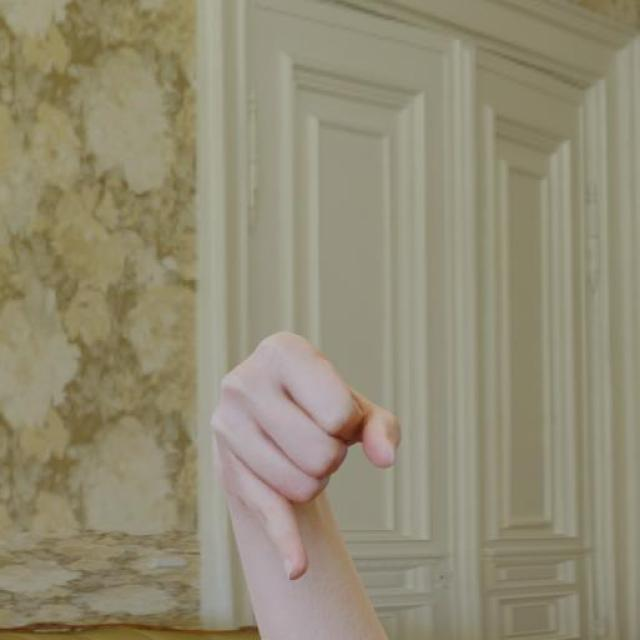J: (205, 328, 404, 583)
